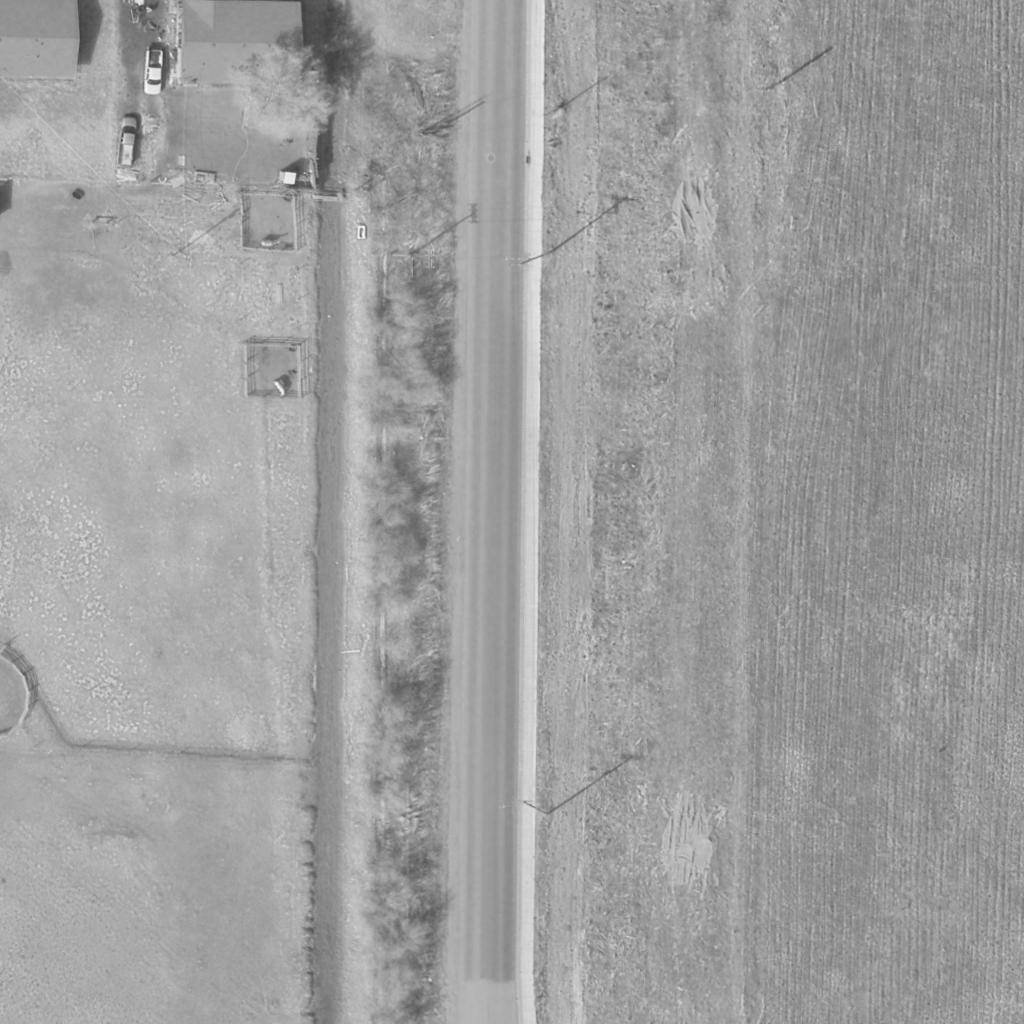vehicle: (118, 115, 138, 167), (145, 50, 163, 96)
